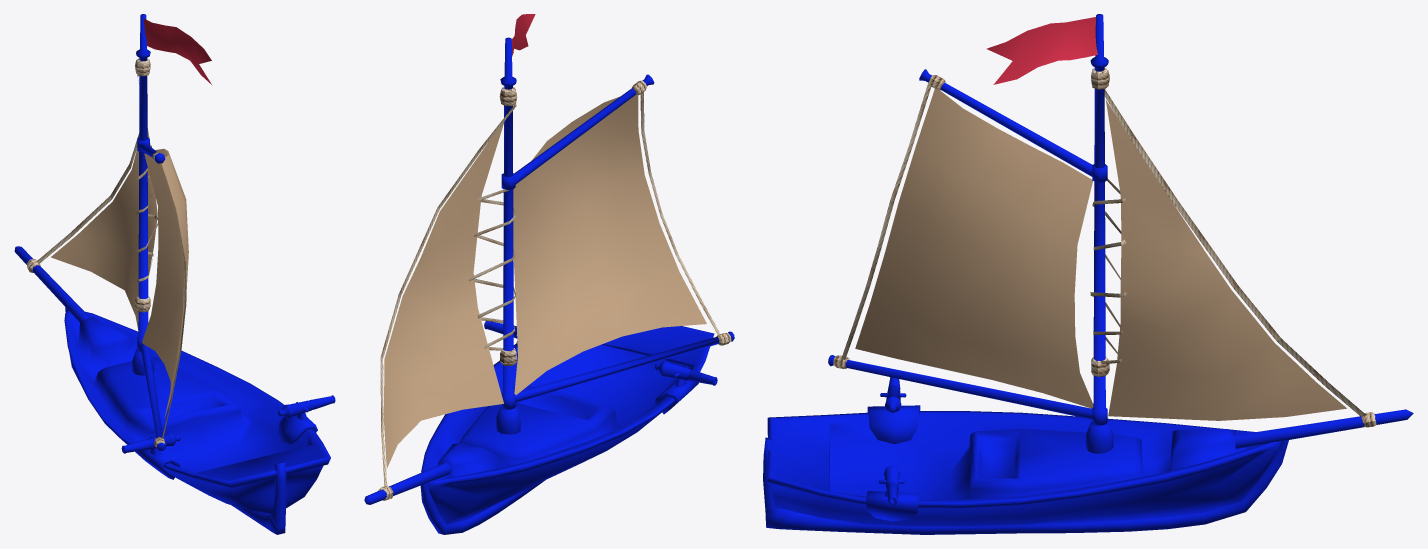
File: SailBoat.fbx
3 renders of one model, left to right at view 1: azimuth 30°, elevation 25°; view 2: azimuth 150°, elevation 25°; view 3: azimuth 270°, elevation 25°, orthographic. The views are drawn at different scales.
Visible parts, largest first — view 1: Sailboat, sails, Ropes, Flag; view 2: sails, Sailboat, Ropes, Flag; view 3: sails, Sailboat, Ropes, Flag.
Part boxes in pixels (bbox=[...]): Sailboat: bbox=[14, 14, 335, 534]; sails: bbox=[51, 128, 188, 418]; Ropes: bbox=[27, 58, 185, 447]; Flag: bbox=[143, 18, 212, 85]; sails: bbox=[384, 94, 706, 468]; Sailboat: bbox=[364, 37, 734, 534]; Ropes: bbox=[378, 80, 731, 500]; Flag: bbox=[511, 14, 535, 56]; sails: bbox=[855, 88, 1346, 420]; Sailboat: bbox=[763, 14, 1413, 534]; Ropes: bbox=[833, 67, 1376, 427]; Flag: bbox=[986, 17, 1097, 84].
Bounding box in the file's own units: 983 × 1902 × 2169.
